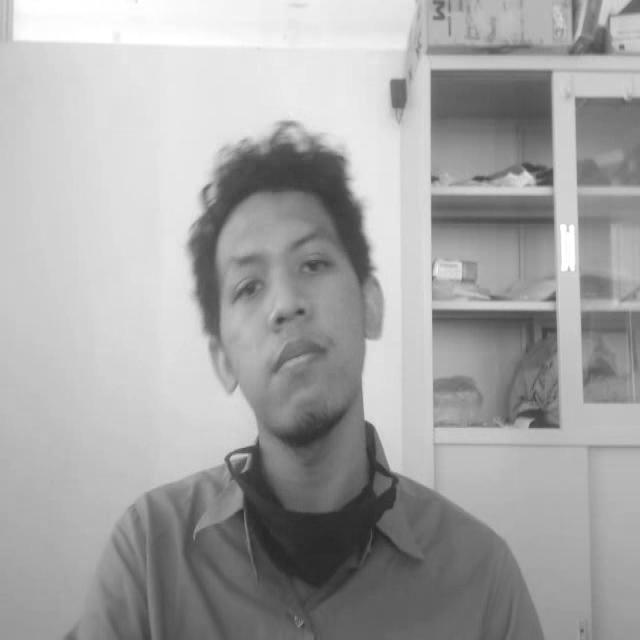real: (176, 108, 389, 452)
